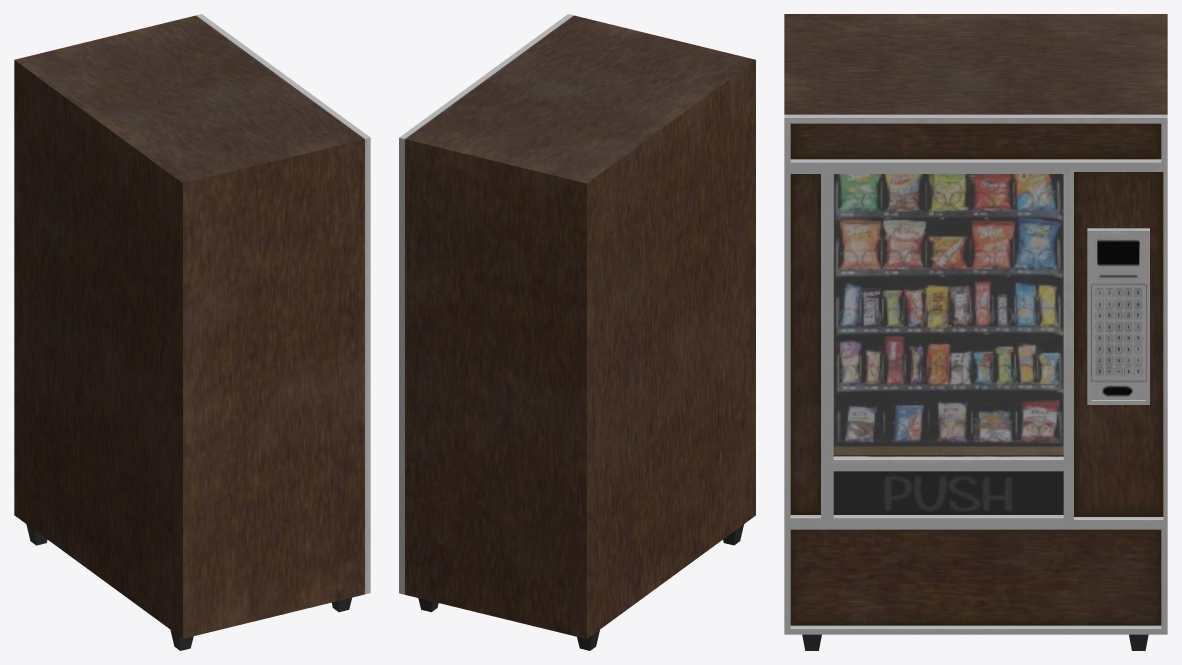
File: cafelito.glb
3 renders of one model, left to right at view 1: azimuth 30°, elevation 25°; view 2: azimuth 150°, elevation 25°; view 3: azimuth 270°, elevation 25°, orthographic. The views are drawn at different scales.
Visible parts, largest first — view 1: Vending Machine_1, Cube_0; view 2: Vending Machine_1, Cube_0; view 3: Vending Machine_1, Vending Machine.001_2, Vending Machine.002_3, Cube_0.
Boxes of the visible parts, x1,y1,x2,y2 form: Vending Machine_1: [14, 14, 370, 638]; Cube_0: [26, 524, 351, 650]; Vending Machine_1: [399, 14, 755, 638]; Cube_0: [418, 524, 743, 650]; Vending Machine_1: [784, 14, 1167, 634]; Vending Machine.001_2: [1087, 228, 1149, 404]; Vending Machine.002_3: [833, 471, 1063, 514]; Cube_0: [802, 634, 1148, 650].
Bounding box in the file's own units: 0.5886 × 1.43 × 0.9176.
4 materials, 2 textured.
